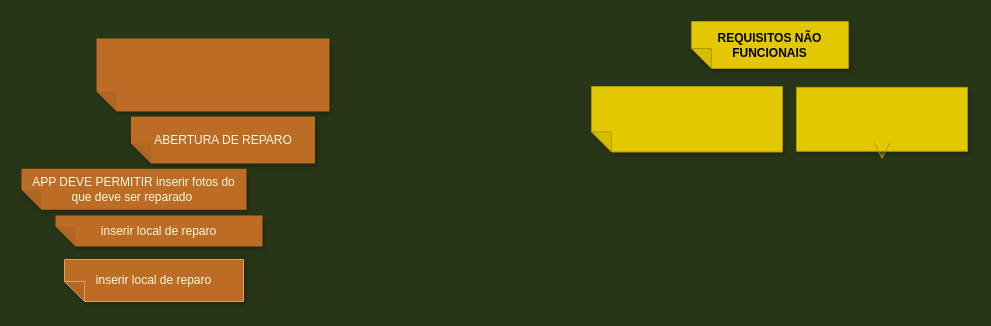
This 991x326 diagram has some shape labels left out. Each missing label, with the centre of its shape:
"requisitos de sistema" goes at point (883, 120).
"requisitos de susuários" goes at point (687, 120).
"REQUISITOS FUNCIONAIS" goes at point (213, 76).
